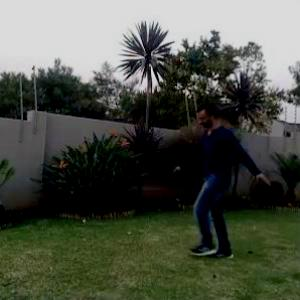land: (164, 94, 272, 270)
